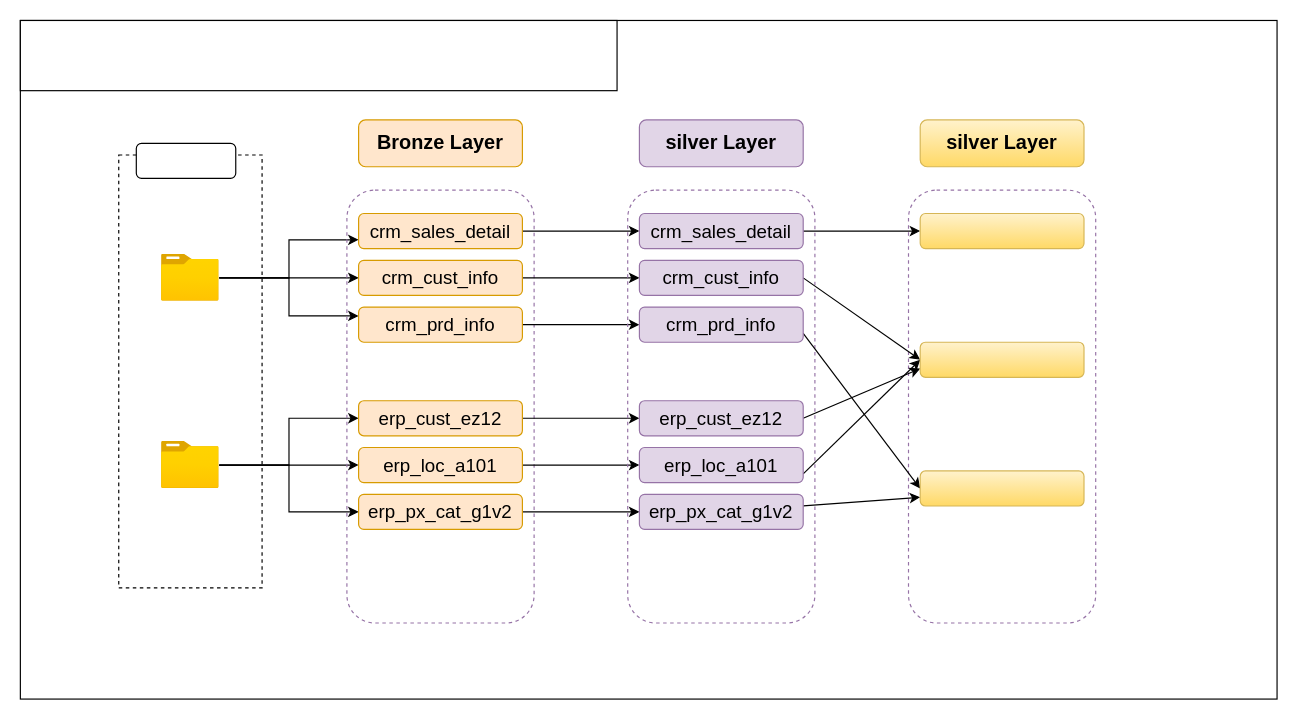
Image size: 1299x720. Some labels were removed from this diagram. Each missing label, with the box of its shape:
CRM: (161, 254, 219, 301)
Data Flow Diagram (Data Lineage): (19, 19, 617, 91)
dim_customers: (919, 341, 1084, 377)
dim_product: (919, 470, 1084, 506)
ERP: (161, 441, 219, 488)
fact_sales: (919, 212, 1084, 249)
Sources: (135, 142, 236, 178)
